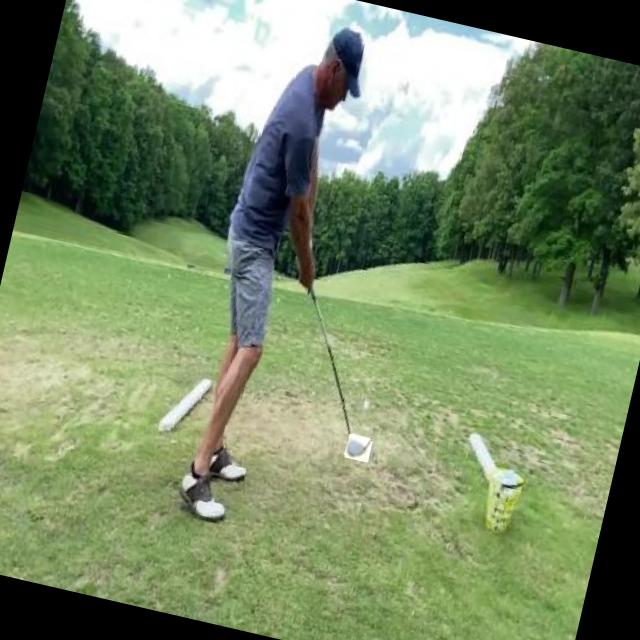club head: (343, 433, 372, 462)
